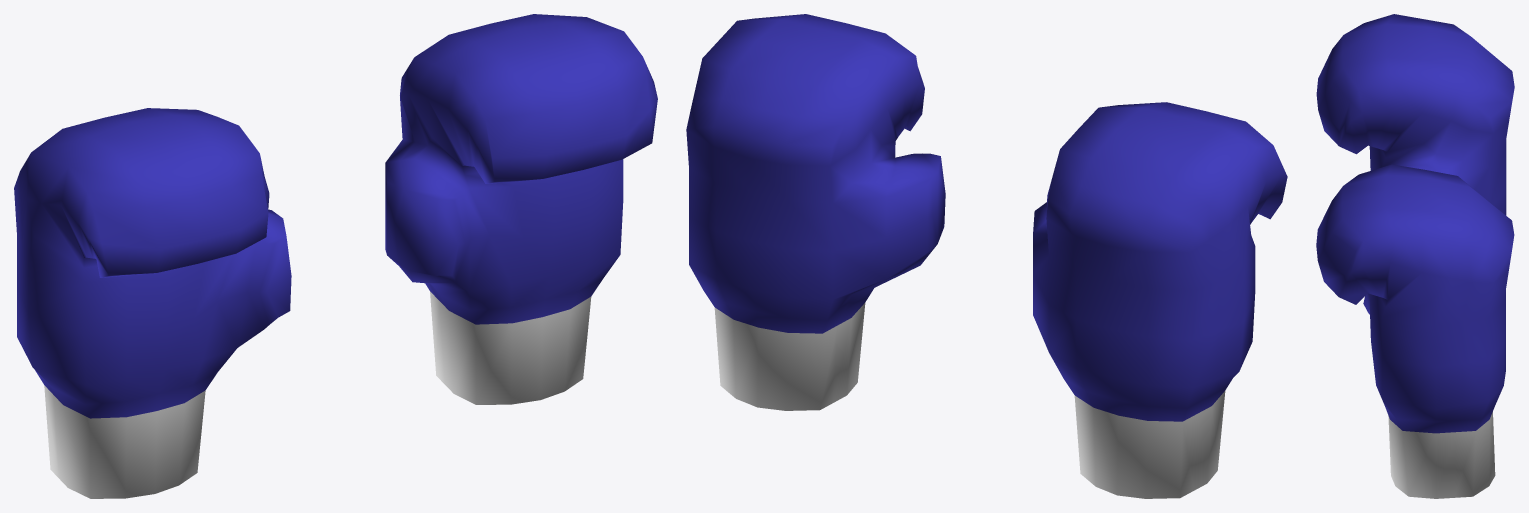
Rendered from GuantesBoxing.fbx.
3 renders of one model, left to right at view 1: azimuth 30°, elevation 25°; view 2: azimuth 150°, elevation 25°; view 3: azimuth 270°, elevation 25°, orthographic. The views are drawn at different scales.
Visible parts, largest first — view 1: Cube.001; view 2: Cube.001; view 3: Cube.001.
Boxes of the visible parts, box(x1,y1,x2,y2) form: Cube.001: box(14, 14, 657, 498); Cube.001: box(686, 14, 1287, 498); Cube.001: box(1316, 14, 1514, 498).
Bounding box in the file's own units: 50.52 × 29.4 × 18.61.
